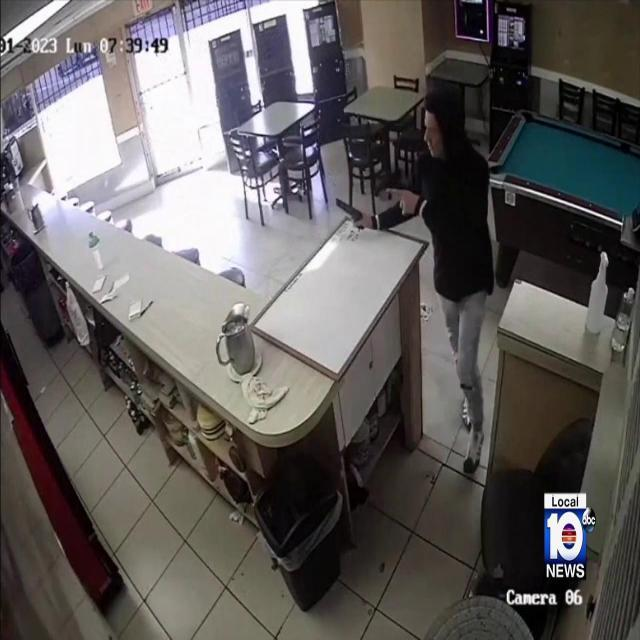pistol: (335, 196, 365, 232)
